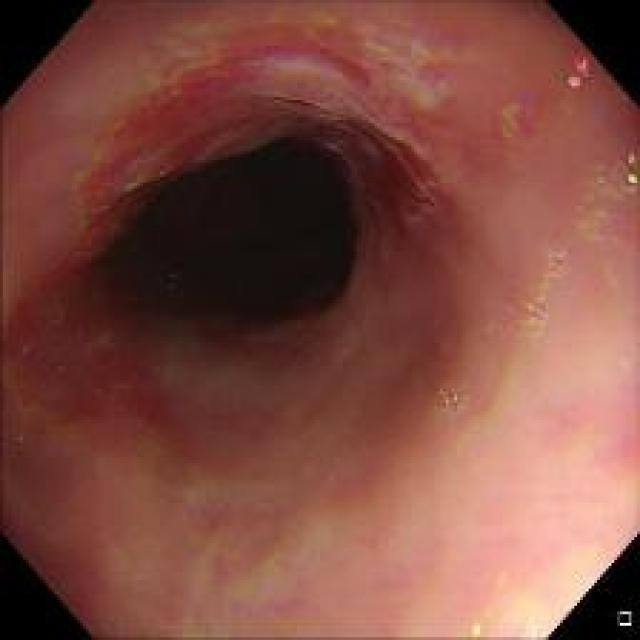bubbles: (516, 295, 548, 330), (432, 385, 466, 415), (540, 251, 565, 278)
color misalignment: (356, 25, 456, 104), (80, 135, 169, 220), (230, 44, 340, 79), (495, 94, 536, 145), (558, 49, 595, 95), (615, 146, 639, 196)
contrast: (110, 128, 370, 342)
